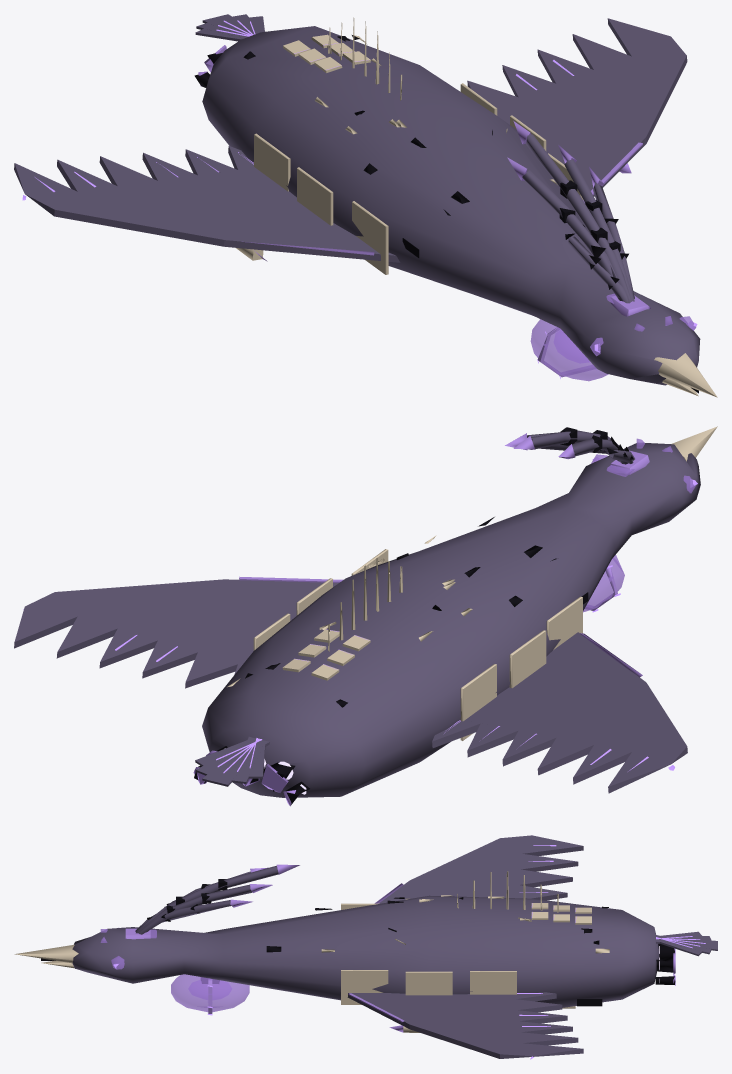
The model's file is choral-piesniarze-trade-9-lod1.glb.
The picture shows the model from 3 angles, top to bottom: view 1: azimuth 30°, elevation 25°; view 2: azimuth 150°, elevation 25°; view 3: azimuth 270°, elevation 25°; orthographic projection. The views are drawn at different scales.
Size of the model in its own units: 72.42 by 21.98 by 97.07.
